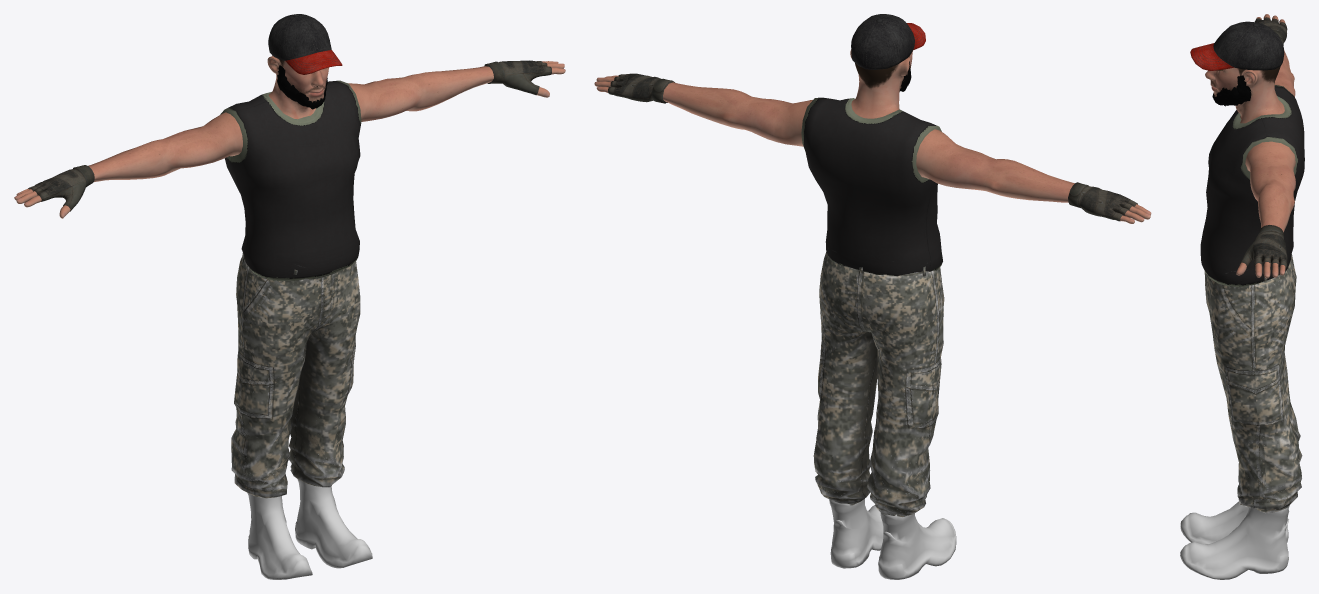
File: guy.obj
The picture shows the model from 3 angles, left to right: view 1: azimuth 30°, elevation 25°; view 2: azimuth 150°, elevation 25°; view 3: azimuth 270°, elevation 25°; orthographic projection. The views are drawn at different scales.
Parts seen in each view (by area): view 1: Bottoms, Tops, Body, Shoes, Hats, Gloves; view 2: Bottoms, Tops, Body, Shoes, Hats, Gloves; view 3: Bottoms, Tops, Body, Shoes, Hats, Gloves, Beards.
Part boxes in pixels (x1,y1,x2,y2): Bottoms: [231, 253, 360, 498]; Tops: [220, 80, 361, 281]; Body: [14, 55, 565, 218]; Shoes: [247, 479, 372, 579]; Hats: [268, 14, 342, 74]; Gloves: [28, 60, 551, 211]; Bottoms: [813, 251, 944, 516]; Tops: [801, 97, 942, 276]; Body: [594, 49, 1151, 223]; Shoes: [829, 499, 956, 579]; Hats: [851, 14, 925, 69]; Gloves: [608, 73, 1137, 221]; Bottoms: [1204, 254, 1302, 513]; Tops: [1200, 85, 1304, 286]; Body: [1205, 14, 1295, 278]; Shoes: [1180, 501, 1289, 579]; Hats: [1190, 21, 1284, 70]; Gloves: [1239, 17, 1287, 267]; Beards: [1212, 75, 1251, 106].
Bounding box in the file's own units: 194 × 183 × 38.74.
